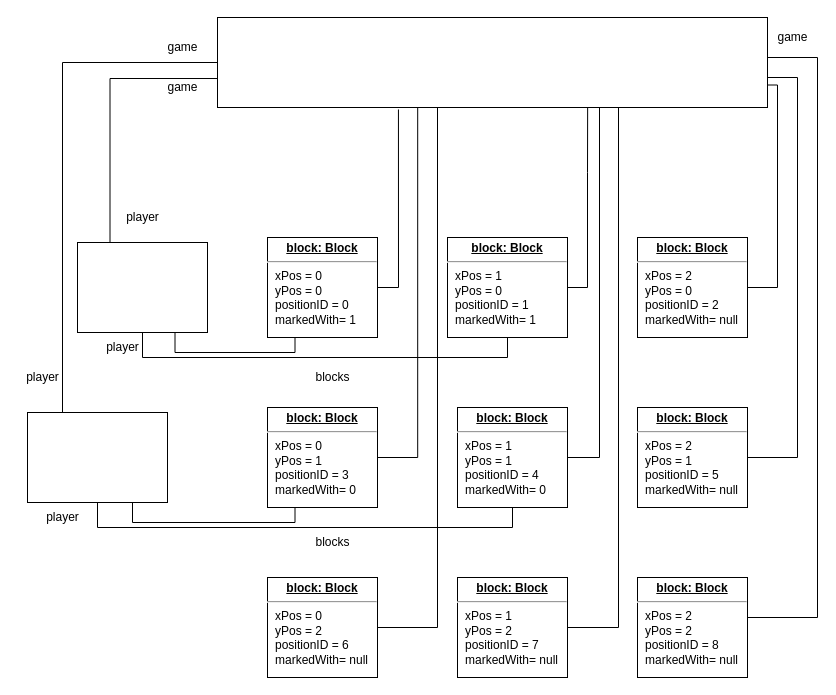
Some shapes in this 836 by 695 pixel diagram are drawn without their labels. Each missing label, with the box of its shape:
computerPlayer:Player name = "Computer" playerID = 2 victory = false: (26, 412, 168, 502)
game: Game name = "Tic-Tac-Toe" fieldLength = 3: (216, 16, 768, 108)
humanPlayer:Player name = "Human" playerID = 1 victory = false: (76, 242, 208, 332)
